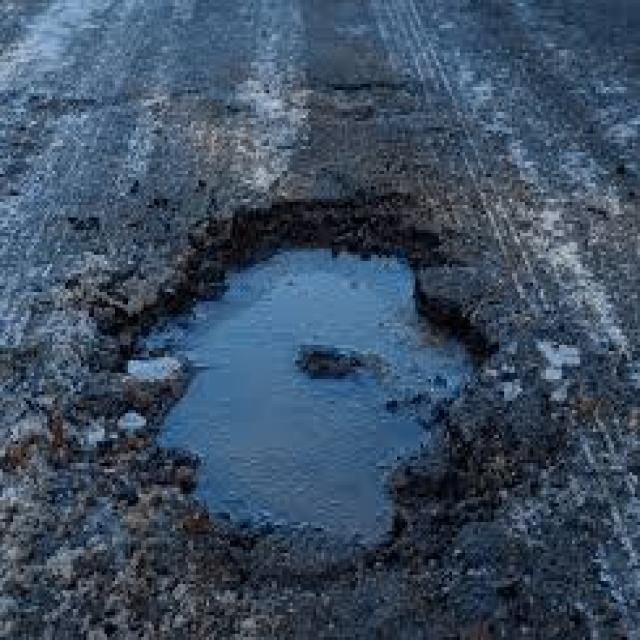Pothole: (136, 245, 478, 569)
